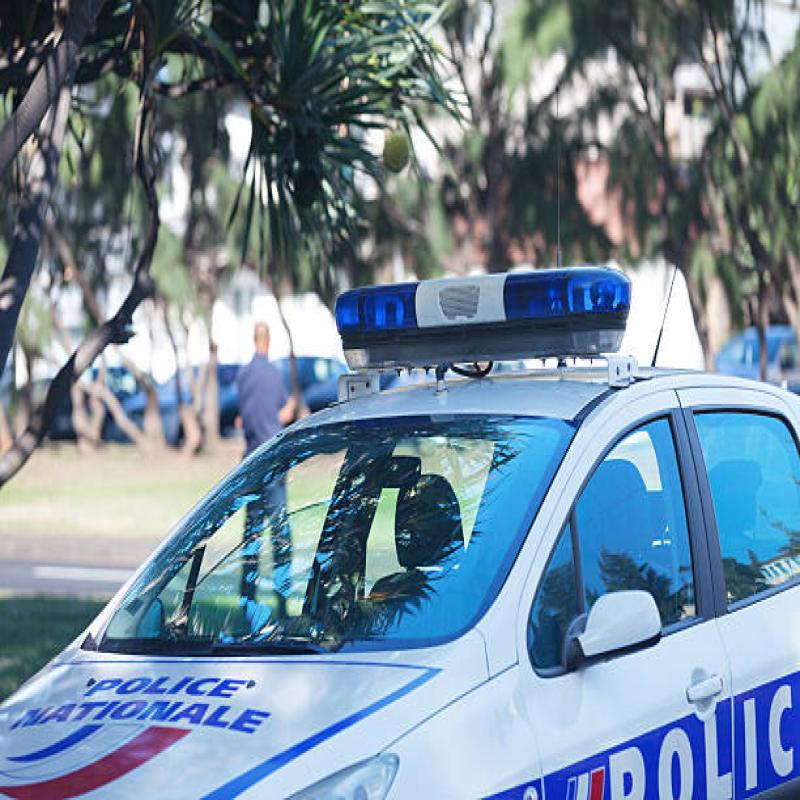AmbulanceSiren: (328, 232, 643, 397)
